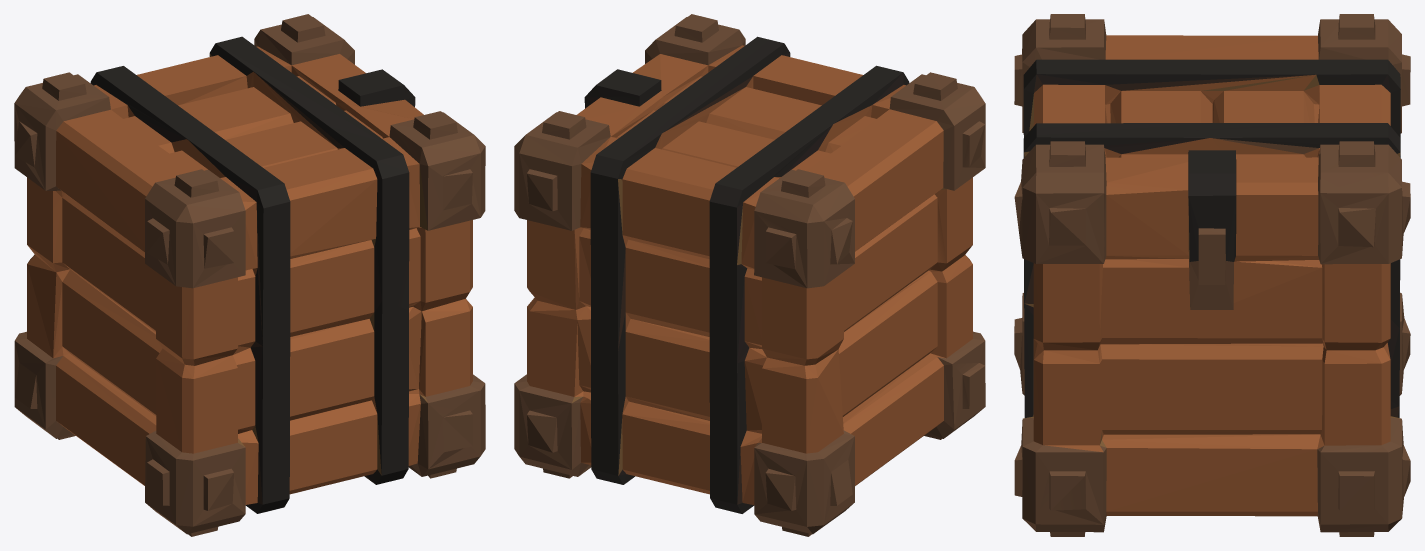
Rendered from mdvl_props_crate_01.fbx.
3 views of the same model, side by side, from view 1: azimuth 30°, elevation 25°; view 2: azimuth 150°, elevation 25°; view 3: azimuth 270°, elevation 25° (orthographic). The views are drawn at different scales.
Visible parts, largest first — view 1: mdvl_props_crate_01; view 2: mdvl_props_crate_01; view 3: mdvl_props_crate_01.
Boxes of the visible parts, x1,y1,x2,y2 form: mdvl_props_crate_01: (14, 14, 485, 536); mdvl_props_crate_01: (514, 14, 985, 536); mdvl_props_crate_01: (1014, 14, 1410, 536).
Size of the model in its own units: 0.5111 by 0.4949 by 0.5267.
